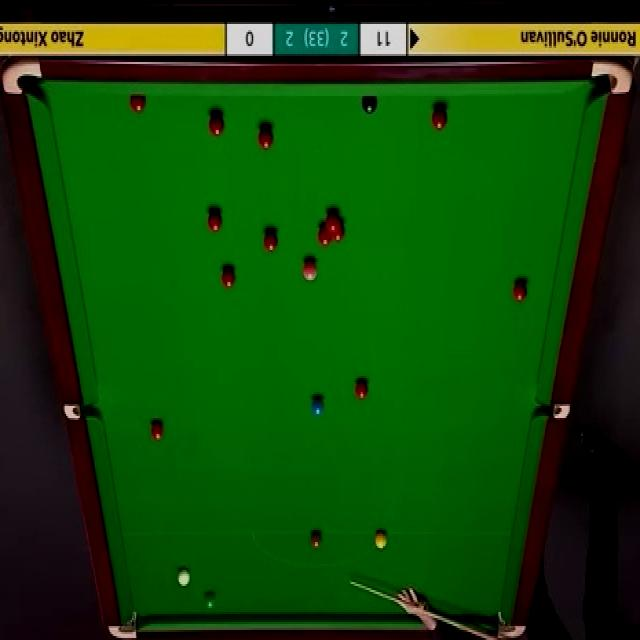black-ball: (360, 95, 378, 117)
blue-ball: (311, 395, 325, 418)
brown-ball: (310, 529, 324, 552)
green-ball: (201, 590, 217, 610)
pink-ball: (302, 258, 317, 286)
red-ball: (220, 262, 237, 291), (512, 277, 529, 304), (209, 111, 226, 137), (258, 125, 274, 151), (208, 210, 223, 235), (264, 228, 279, 253), (150, 420, 164, 446), (432, 106, 446, 132), (354, 378, 369, 401), (318, 222, 332, 246), (130, 94, 146, 114), (326, 210, 339, 230), (332, 222, 345, 242)
white-ball: (176, 568, 192, 590)
yellow-ball: (375, 531, 388, 551)
